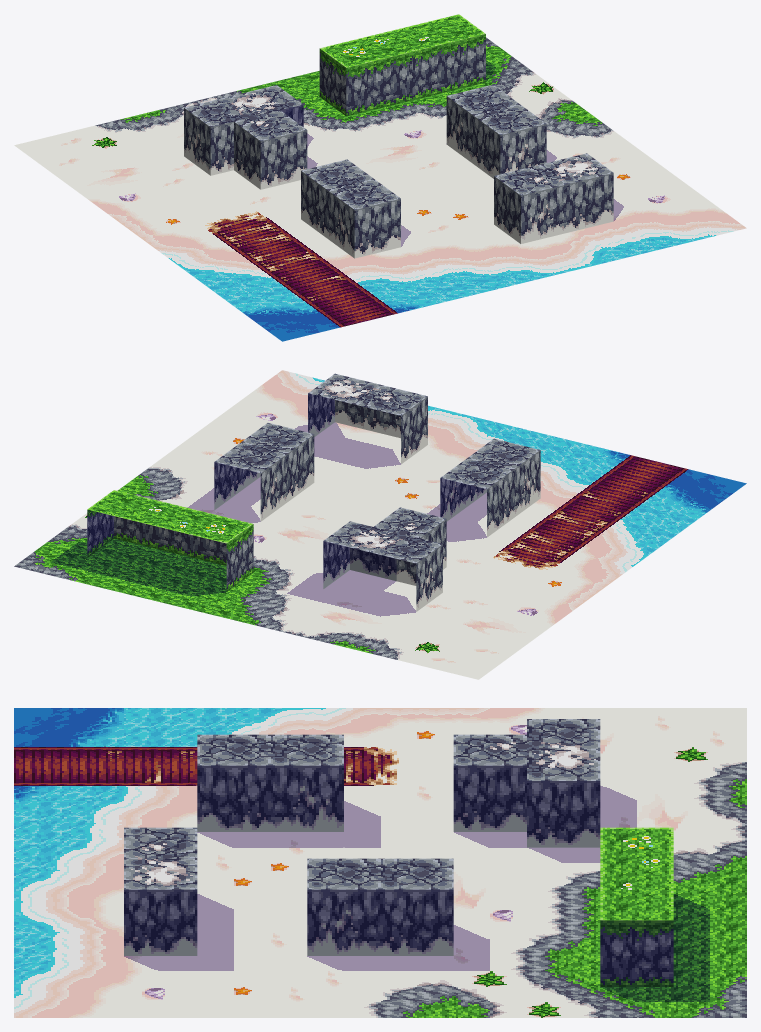
The model's file is EmCo.glb.
3 renders of one model, top to bottom at view 1: azimuth 30°, elevation 25°; view 2: azimuth 150°, elevation 25°; view 3: azimuth 270°, elevation 25°, orthographic. The views are drawn at different scales.
Visible parts, largest first — view 1: Map; view 2: Map; view 3: Map.
Part boxes in pixels (<box>): Map: <box>14,14,746,341</box>; Map: <box>14,370,746,679</box>; Map: <box>14,708,746,1017</box>.
Size of the model in its own units: 10 by 1 by 10.
2 materials, 2 textured.
